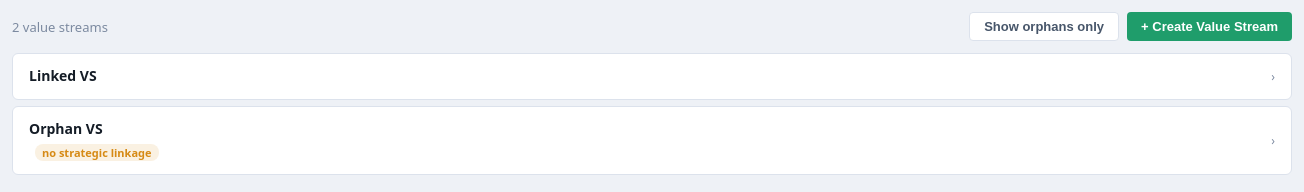
Test: ValueStreamList: orphan badge and filter (918-strategy-rollups) › toggling 'Show orphans only' narrows the list to just orphaned value streams
Expected: the text "Linked VS" is shown, [29,66,97,85]
Expected: the text "Orphan VS" is shown, [29,119,103,138]
Click the button "Show orphans only": (1044, 26) [969,12,1119,41]
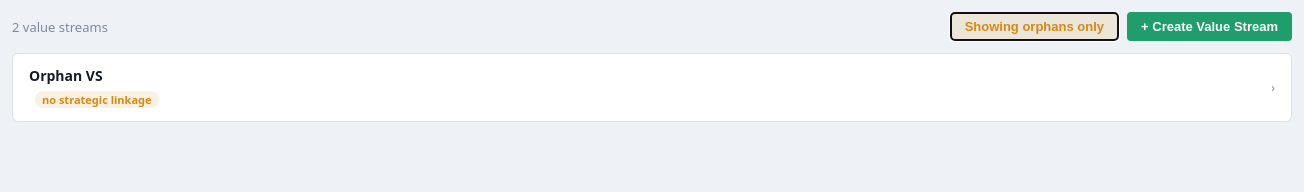
Expected: the text "Orphan VS" is shown, [29,66,103,85]
Expected: the text "Linked VS" is gone
